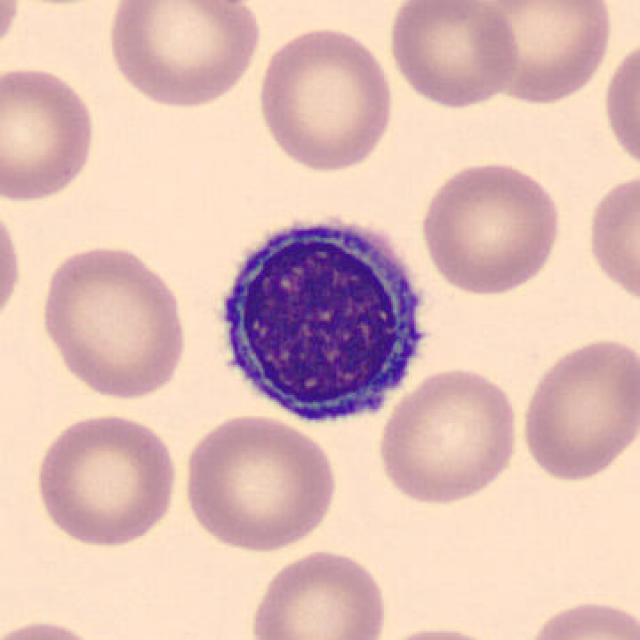Lymphocyte: (201, 203, 439, 435)
RBC: (34, 240, 192, 402), (180, 411, 342, 555), (252, 21, 398, 175), (373, 363, 523, 508), (30, 409, 182, 550), (416, 157, 565, 298), (516, 331, 638, 485), (101, 0, 265, 111), (469, 0, 615, 108), (384, 0, 522, 109), (0, 62, 100, 206), (245, 545, 391, 640), (581, 168, 640, 312), (599, 34, 640, 178), (519, 596, 640, 640), (0, 192, 27, 335), (0, 615, 112, 640), (363, 622, 517, 640), (0, 0, 23, 71)
